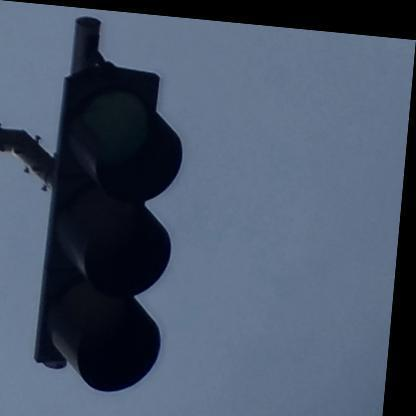green: (39, 64, 190, 393)
